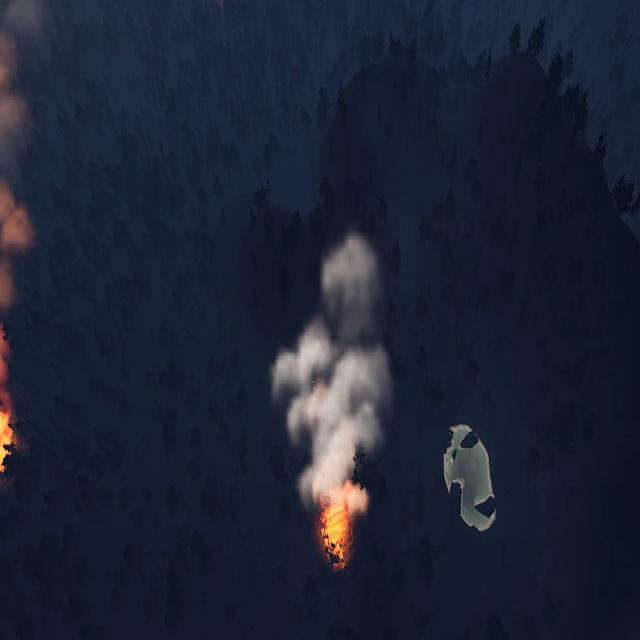fire: (319, 484, 370, 568), (0, 325, 12, 434), (0, 408, 12, 474)
smoke: (274, 233, 397, 490), (1, 0, 34, 401)
